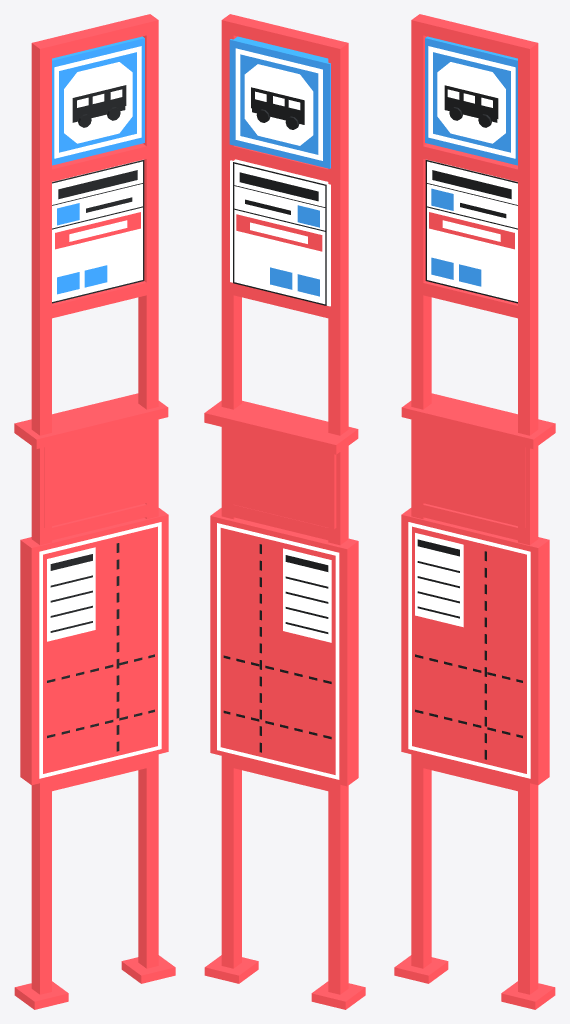
File: stop-totem.glb
3 renders of one model, left to right at view 1: azimuth 30°, elevation 25°; view 2: azimuth 150°, elevation 25°; view 3: azimuth 330°, elevation 25°, orthographic.
Visible parts, largest first — view 1: stop-totem; view 2: stop-totem; view 3: stop-totem.
Part boxes in pixels (x1,y1,x2,y2): stop-totem: [14, 14, 175, 1009]; stop-totem: [204, 14, 365, 1009]; stop-totem: [394, 14, 555, 1009].
Size of the model in its own units: 0.535 by 3.46 by 0.1625.
